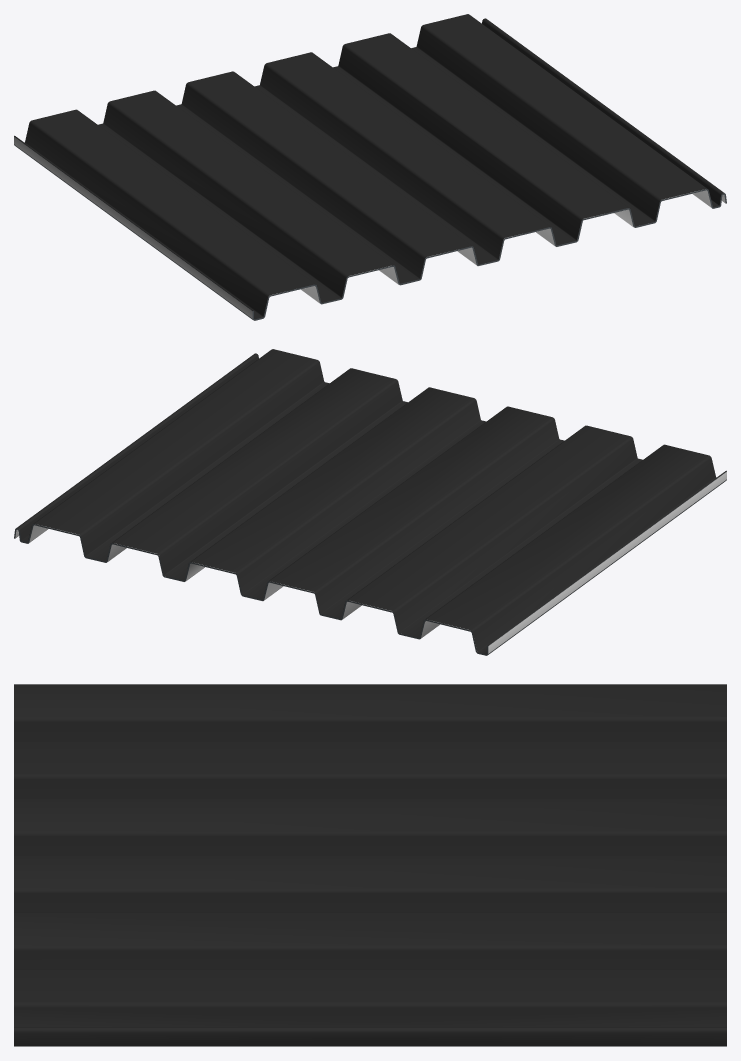
The model's file is B-Deck-RoofSmooth-Optimized.glb.
3 renders of one model, top to bottom at view 1: azimuth 30°, elevation 25°; view 2: azimuth 150°, elevation 25°; view 3: azimuth 270°, elevation 25°, orthographic. The views are drawn at different scales.
Visible parts, largest first — view 1: Mesh_0; view 2: Mesh_0; view 3: Mesh_0.
Part boxes in pixels (<box>): Mesh_0: <box>14,14,726,320</box>; Mesh_0: <box>14,349,726,655</box>; Mesh_0: <box>14,684,726,1046</box>.
Size of the model in its own units: 0.1916 by 0.00847 by 0.167.
3 materials, 1 textured.
